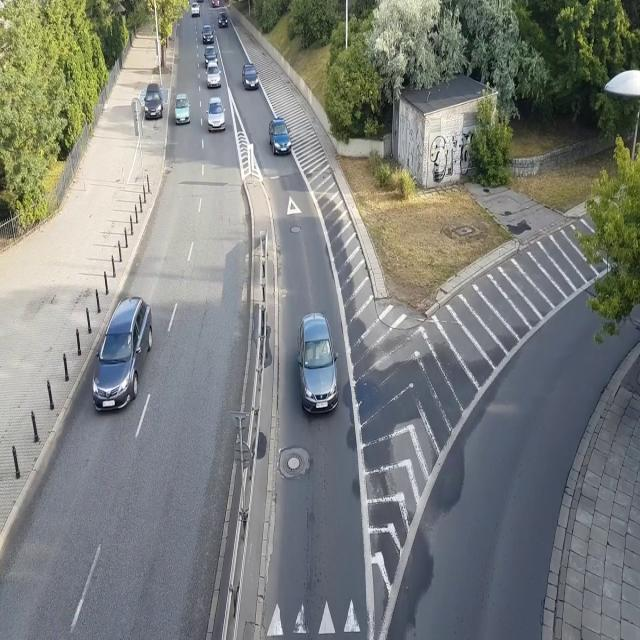car: (91, 296, 154, 414), (296, 310, 339, 414), (268, 118, 292, 156), (143, 84, 164, 120), (206, 98, 226, 132), (173, 94, 190, 125), (242, 63, 259, 90), (205, 62, 222, 89), (204, 46, 218, 66), (201, 24, 214, 45), (217, 10, 228, 28), (191, 2, 200, 16), (211, 0, 220, 6)
